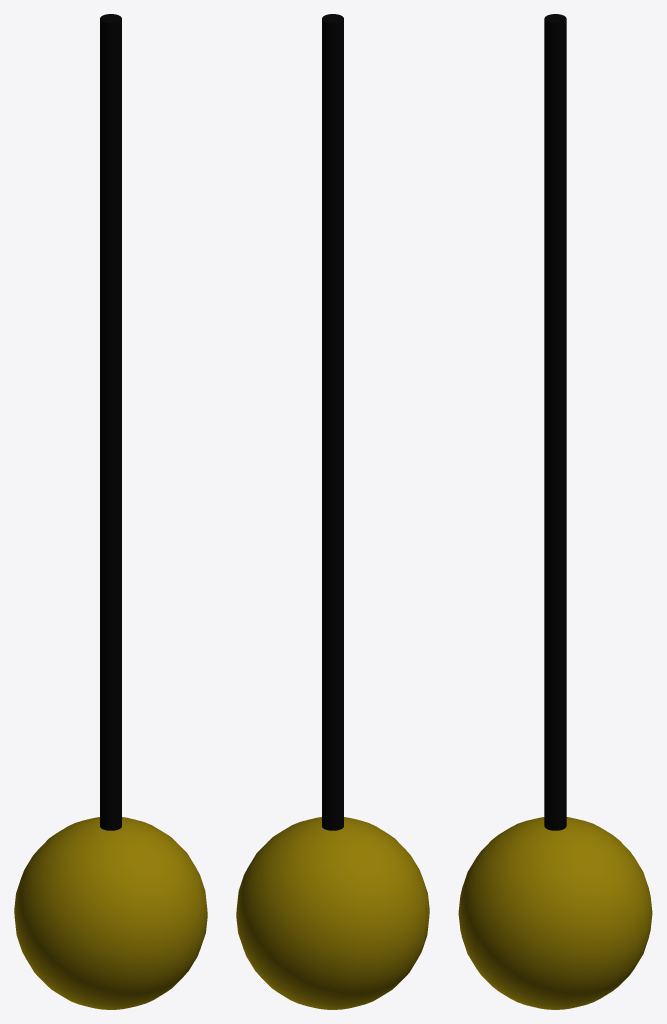
Rendered from pendulum.glb.
3 renders of one model, left to right at view 1: azimuth 30°, elevation 25°; view 2: azimuth 150°, elevation 25°; view 3: azimuth 270°, elevation 25°, orthographic.
Parts seen in each view (by area): view 1: Sphere, Cylinder; view 2: Sphere, Cylinder; view 3: Sphere, Cylinder.
Boxes of the visible parts, x1,y1,x2,y2 form: Sphere: (14, 817, 207, 1009); Cylinder: (100, 14, 121, 830); Sphere: (236, 817, 429, 1009); Cylinder: (322, 14, 343, 830); Sphere: (458, 817, 652, 1009); Cylinder: (544, 14, 566, 830).
Bounding box in the file's own units: 1.38 × 7.7 × 1.38.
